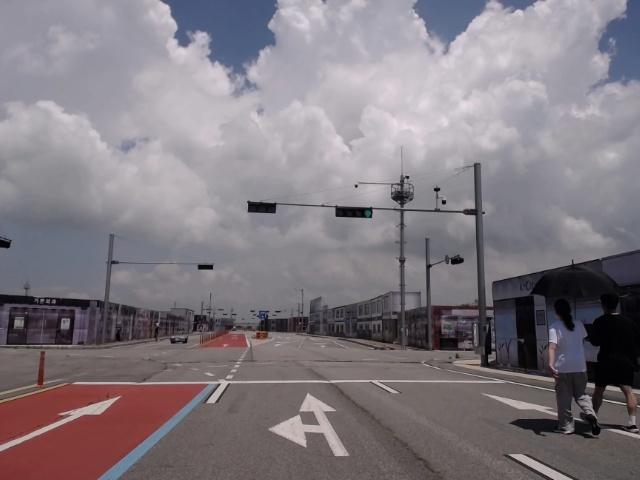straight_green_4: (334, 206, 373, 218)
